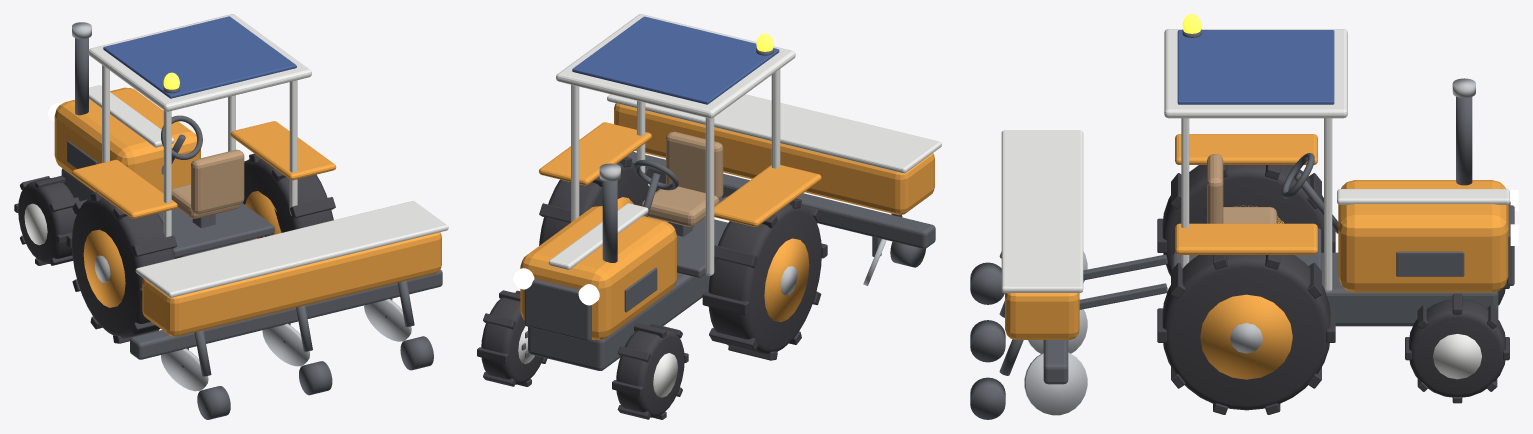
The model's file is tractor.glb.
3 views of the same model, side by side, from view 1: azimuth 30°, elevation 25°; view 2: azimuth 150°, elevation 25°; view 3: azimuth 270°, elevation 25° (orthographic). The views are drawn at different scales.
Parts seen in each view (by area): view 1: Hopper, HopperLid, Solar, Hood, RearTireL, ToolBar, Roof, Floor, FenderL, RearTireR, SeatBack, FenderR (+25 smaller); view 2: Solar, Hopper, Hood, RearTireL, HopperLid, Chassis, Roof, ToolBar, FenderL, FrontTireL, FenderR, Grille (+20 smaller); view 3: RearTireR, Hood, HopperLid, Solar, FrontTireR, RearTireL, RearHubR, Roof, Chassis, FenderR, FenderL, Hopper (+18 smaller).
Part boxes in pixels (box(x1,y1,x2,y2)): Hopper: box(142, 232, 441, 336); HopperLid: box(135, 201, 448, 297); Solar: box(103, 16, 296, 98); Hood: box(54, 87, 200, 193); RearTireL: box(72, 197, 175, 337); ToolBar: box(130, 270, 442, 359); Roof: box(88, 14, 311, 111); Floor: box(158, 203, 274, 257); FenderL: box(72, 159, 177, 218); RearTireR: box(243, 158, 333, 239); SeatBack: box(191, 149, 244, 214); FenderR: box(230, 121, 336, 180); Solar: box(572, 16, 779, 104); Hopper: box(614, 103, 934, 214); Hood: box(520, 206, 676, 340); RearTireL: box(708, 204, 821, 354); HopperLid: box(607, 94, 941, 173); Chassis: box(528, 272, 709, 370); Roof: box(556, 14, 795, 118); ToolBar: box(627, 152, 935, 248); FenderL: box(714, 165, 821, 226); FrontTireL: box(616, 325, 684, 417); FenderR: box(539, 122, 651, 185); Grille: box(524, 279, 591, 341); RearTireR: box(1162, 255, 1330, 410); Hood: box(1338, 180, 1508, 292); HopperLid: box(1001, 130, 1083, 292); Solar: box(1177, 30, 1334, 104); FrontTireR: box(1409, 299, 1505, 397); RearTireL: box(1162, 165, 1323, 276); RearHubR: box(1200, 294, 1292, 379); Roof: box(1164, 29, 1347, 118); Chassis: box(1171, 252, 1498, 326); FenderR: box(1175, 223, 1317, 254); FenderL: box(1175, 134, 1317, 164); Hopper: box(1005, 293, 1079, 339).
Size of the model in its own units: 3 by 2.55 by 4.03.
